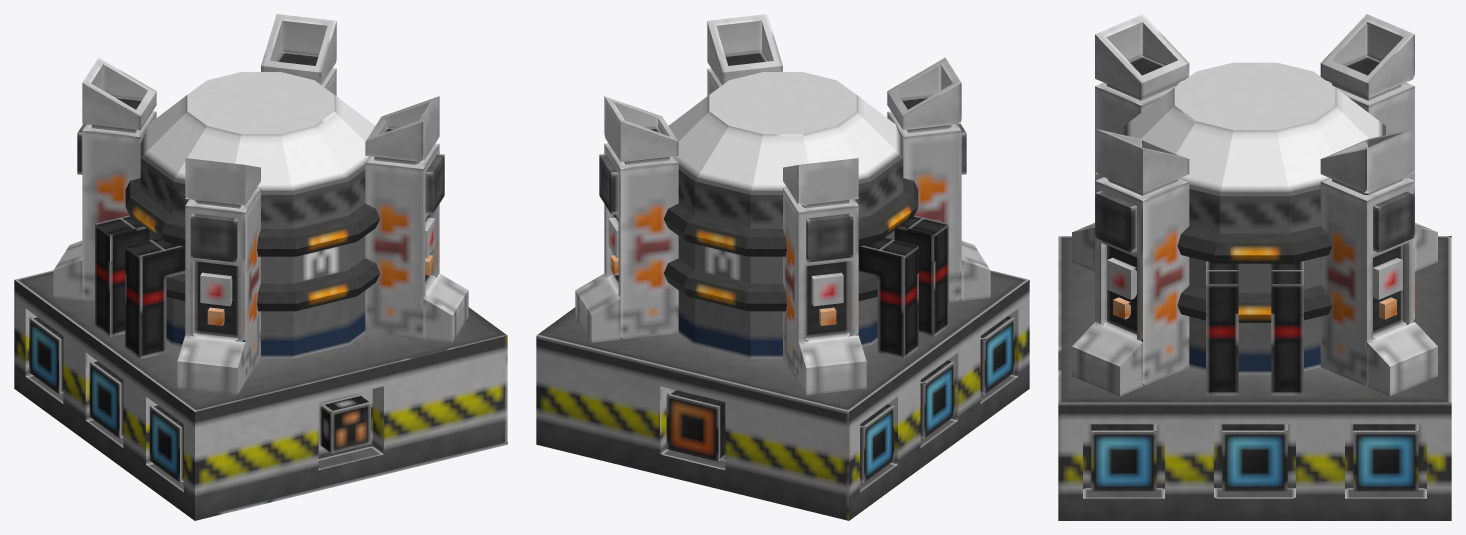
The model's file is vacuum_melting_furnace.obj.
3 views of the same model, side by side, from view 1: azimuth 30°, elevation 25°; view 2: azimuth 150°, elevation 25°; view 3: azimuth 270°, elevation 25° (orthographic). The views are drawn at different scales.
Parts seen in each view (by area): view 1: cube.003_cube.base_cube.008, cube.001_柱体.005, cube, Torus, cube.004_立方体.002; view 2: cube.003_cube.base_cube.008, cube.001_柱体.005, cube, Torus, cube.004_立方体.002; view 3: cube.001_柱体.005, cube.003_cube.base_cube.008, cube, cube.004_立方体.002, Torus.
Part boxes in pixels (x1,y1,x2,y2): cube.003_cube.base_cube.008: (14, 270, 507, 520); cube.001_柱体.005: (53, 14, 468, 395); cube: (140, 72, 375, 358); Torus: (125, 178, 380, 311); cube.004_立方体.002: (95, 215, 185, 358); cube.003_cube.base_cube.008: (536, 270, 1029, 520); cube.001_柱体.005: (575, 14, 990, 395); cube: (668, 72, 903, 358); Torus: (663, 178, 918, 311); cube.004_立方体.002: (858, 215, 948, 358); cube.001_柱体.005: (1072, 14, 1437, 396); cube.003_cube.base_cube.008: (1058, 236, 1451, 520); cube: (1124, 62, 1385, 374); cube.004_立方体.002: (1206, 261, 1303, 395); Torus: (1177, 226, 1332, 322).
Size of the model in its own units: 3 by 3 by 3.
